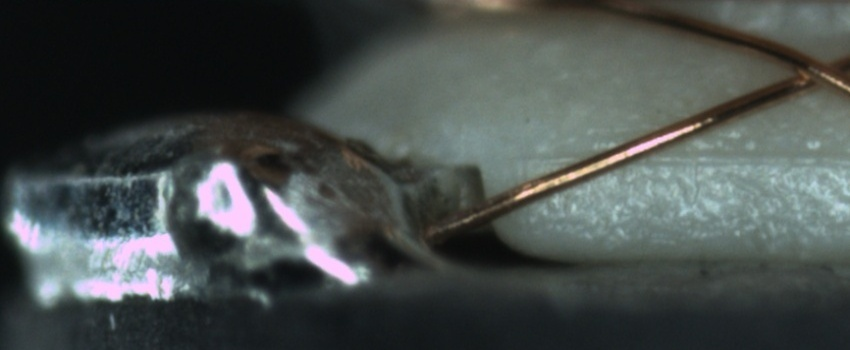CL: (771, 43, 847, 98)
DL: (529, 127, 849, 186)
